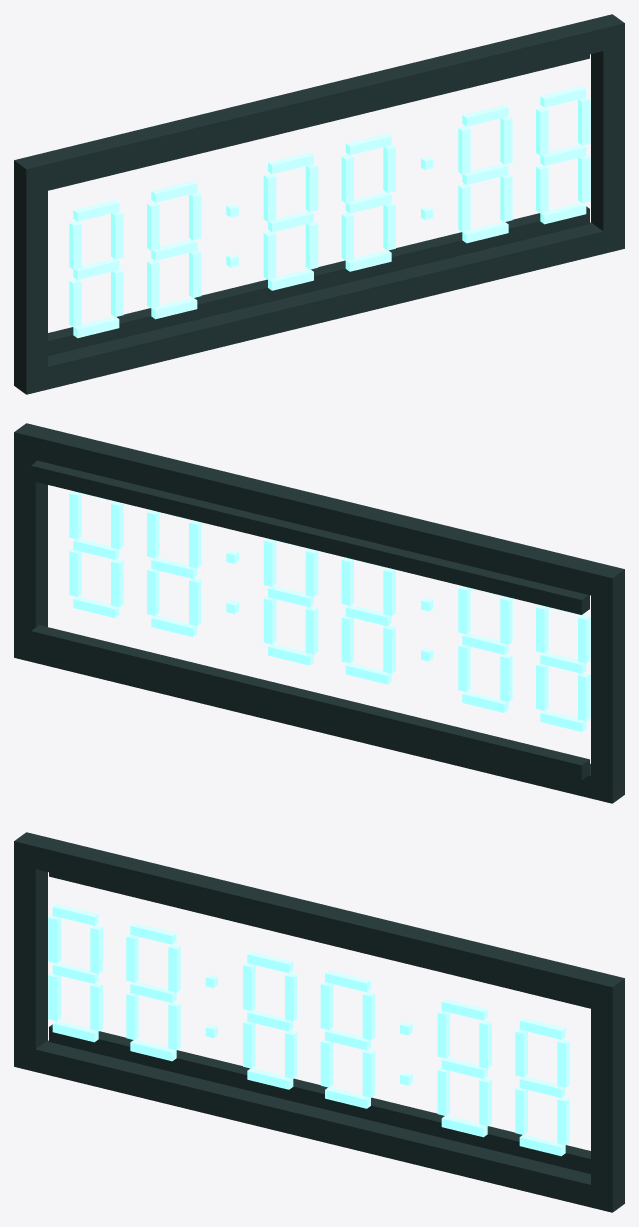
Rendered from digital-layered-v1-model.glb.
3 renders of one model, top to bottom at view 1: azimuth 30°, elevation 25°; view 2: azimuth 150°, elevation 25°; view 3: azimuth 330°, elevation 25°, orthographic.
Parts seen in each view (by area): view 1: digital-frame-top, digital-frame-bottom, digital-layer-bottom, digital-frame-left, digital-frame-right, digital-layer-top, clock-digit-3-f, clock-digit-3-e, clock-digit-3-b, clock-digit-3-c, clock-digit-2-a, clock-digit-1-a (+36 smaller); view 2: digital-frame-top, digital-layer-bottom, digital-layer-top, digital-frame-bottom, digital-frame-left, digital-frame-right, clock-digit-4-e, clock-digit-4-b, clock-digit-4-f, clock-digit-4-c, clock-digit-1-f, clock-digit-3-e (+30 smaller); view 3: digital-frame-top, digital-frame-bottom, digital-layer-bottom, digital-frame-right, digital-frame-left, digital-layer-top, clock-digit-4-b, clock-digit-4-c, clock-digit-4-f, clock-digit-4-e, clock-digit-5-a, clock-digit-1-a (+36 smaller).
Boxes of the visible parts, left/top/right/bottom form: digital-frame-top: left=14, top=14, right=624, bottom=191; digital-frame-bottom: left=14, top=222, right=624, bottom=394; digital-layer-bottom: left=48, top=206, right=589, bottom=355; digital-frame-left: left=14, top=183, right=47, bottom=372; digital-frame-right: left=591, top=46, right=624, bottom=231; digital-layer-top: left=48, top=54, right=589, bottom=190; clock-digit-3-f: left=263, top=173, right=276, bottom=222; clock-digit-3-e: left=263, top=231, right=276, bottom=279; clock-digit-3-b: left=305, top=163, right=318, bottom=211; clock-digit-3-c: left=305, top=221, right=318, bottom=269; clock-digit-2-a: left=151, top=181, right=197, bottom=202; clock-digit-1-a: left=73, top=200, right=119, bottom=221; digital-frame-top: left=14, top=423, right=624, bottom=600; digital-layer-bottom: left=31, top=625, right=589, bottom=780; digital-layer-top: left=31, top=460, right=589, bottom=614; digital-frame-bottom: left=14, top=635, right=624, bottom=803; digital-frame-left: left=591, top=592, right=624, bottom=781; digital-frame-right: left=14, top=455, right=47, bottom=639; clock-digit-4-e: left=305, top=606, right=318, bottom=654; clock-digit-4-b: left=263, top=538, right=276, bottom=586; clock-digit-4-f: left=305, top=549, right=318, bottom=596; clock-digit-4-c: left=263, top=596, right=276, bottom=644; clock-digit-1-f: left=578, top=615, right=590, bottom=663; clock-digit-3-e: left=383, top=625, right=395, bottom=673; digital-frame-top: left=14, top=832, right=624, bottom=1009; digital-frame-bottom: left=14, top=1040, right=624, bottom=1212; digital-layer-bottom: left=49, top=1024, right=590, bottom=1173; digital-frame-right: left=591, top=1001, right=624, bottom=1190; digital-frame-left: left=14, top=864, right=47, bottom=1049; digital-layer-top: left=49, top=872, right=590, bottom=1008; clock-digit-4-b: left=362, top=991, right=375, bottom=1040; clock-digit-4-c: left=362, top=1049, right=375, bottom=1097; clock-digit-4-f: left=320, top=981, right=333, bottom=1029; clock-digit-4-e: left=320, top=1039, right=333, bottom=1087; clock-digit-5-a: left=441, top=999, right=487, bottom=1020; clock-digit-1-a: left=52, top=904, right=98, bottom=925.
Bounding box in the file's own units: 0.5 × 0.18 × 0.037.
